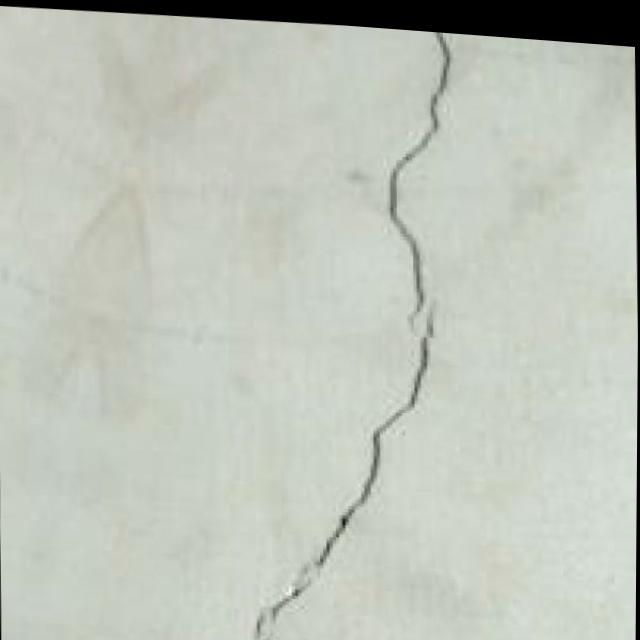Crack: (196, 12, 505, 640)
